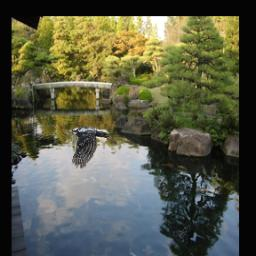Woodpecker: (67, 127, 110, 169)
